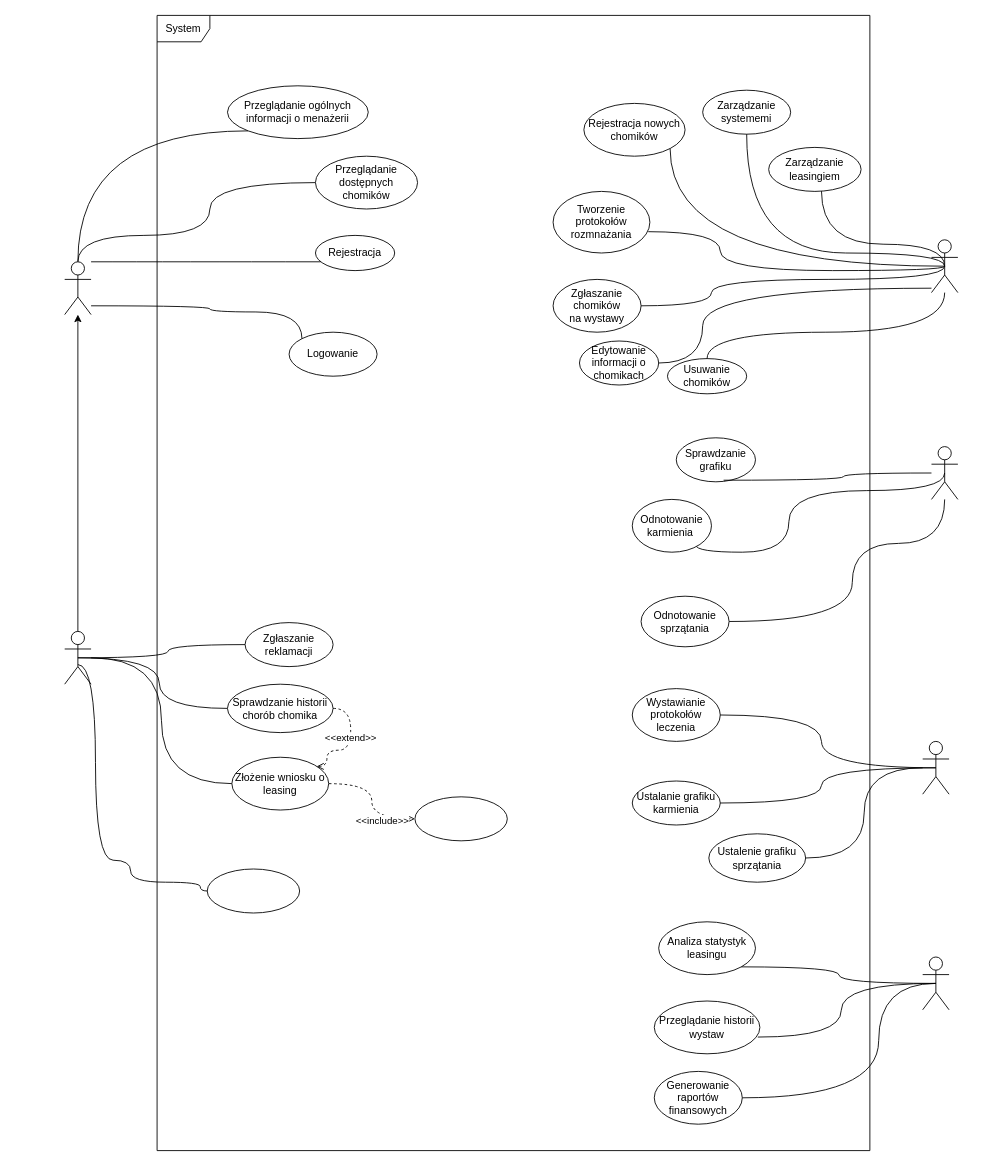
Image size: 1003x1166. Some labels were removed from this diagram. Here are the shapes that lost their labels. From the top down, the centre of each, then its label:
At [944,266]: "Administrator".
At [77,288]: "Użytkownik niezalogowany".
At [944,472]: "Pracownik".
At [77,657]: "Użytkownik zalogowany".
At [935,767]: "Weterynarz".
At [460,818]: "Wybór cech chomika".
At [253,890]: "Anulowanie leasingu".
At [935,983]: "Pracownik Analityczny".
